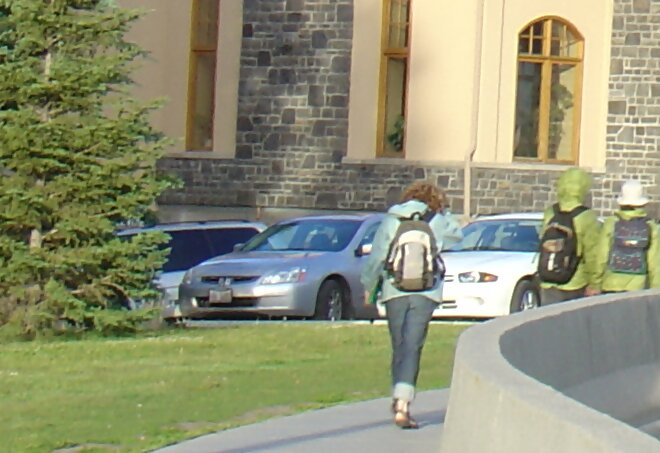person: (369, 165, 453, 430), (537, 164, 605, 302), (603, 176, 659, 302)
